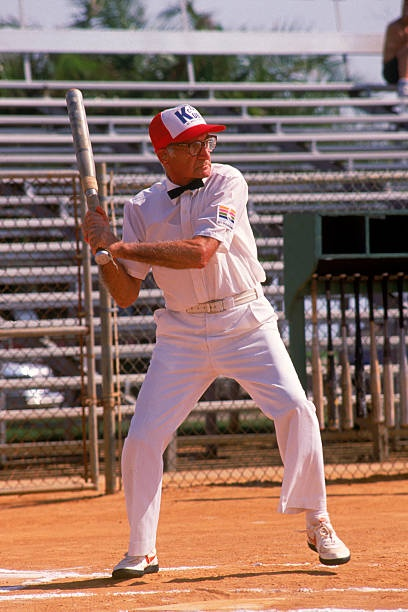bita: (67, 81, 110, 265)
